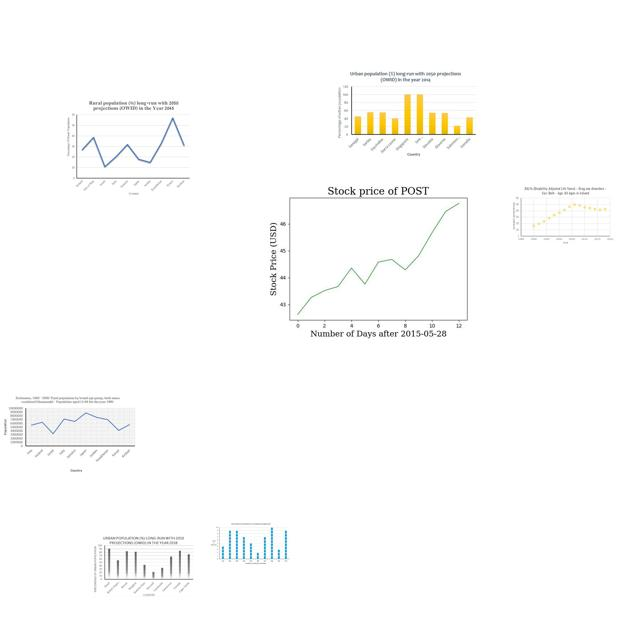Graph: (261, 172, 490, 344), (333, 69, 478, 157), (66, 100, 191, 196), (1, 393, 137, 474), (92, 535, 195, 597), (511, 185, 615, 246), (210, 522, 290, 565)
